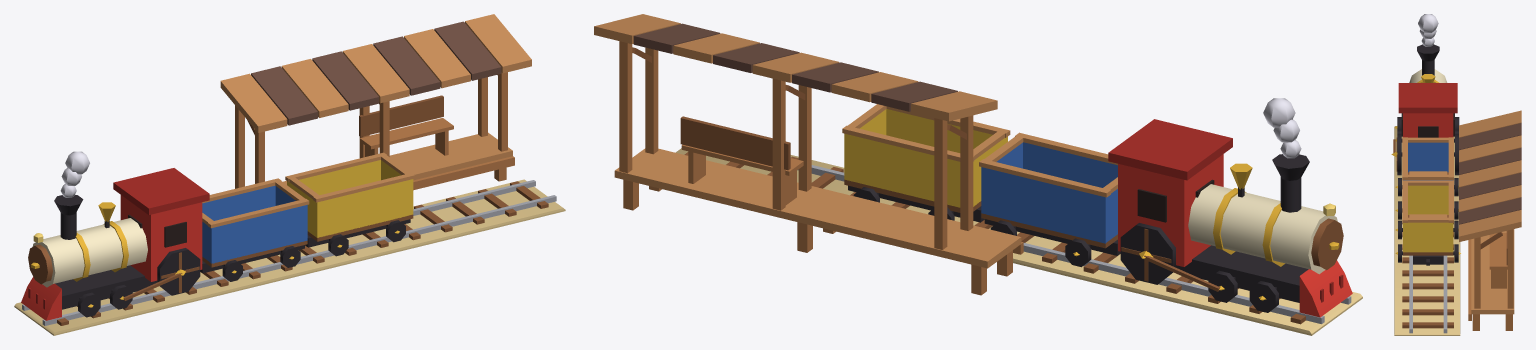
The model's file is zoo_train.glb.
3 views of the same model, side by side, from view 1: azimuth 30°, elevation 25°; view 2: azimuth 150°, elevation 25°; view 3: azimuth 270°, elevation 25° (orthographic). The views are drawn at different scales.
Visible parts, largest first — view 1: zoo_train, wheel_e2, smoke, wheel_e0, wheel_e1; view 2: zoo_train, wheel_e2, smoke, wheel_e0, wheel_e1, wheel_w1a; view 3: zoo_train, smoke, wheel_e2, wheel_w2a, wheel_w2b, wheel_w1b, wheel_w1a, wheel_e0.
Part boxes in pixels (<box>): zoo_train: <box>14,14,565,335</box>; wheel_e2: <box>157,248,200,295</box>; smoke: <box>60,151,89,197</box>; wheel_e0: <box>78,292,100,317</box>; wheel_e1: <box>110,285,132,309</box>; zoo_train: <box>594,14,1362,335</box>; wheel_e2: <box>1120,223,1175,284</box>; smoke: <box>1263,98,1301,158</box>; wheel_e0: <box>1249,281,1278,312</box>; wheel_e1: <box>1208,270,1237,302</box>; wheel_w1a: <box>1065,238,1091,267</box>; zoo_train: <box>1393,44,1521,335</box>; smoke: <box>1418,14,1438,46</box>; wheel_e2: <box>1391,133,1458,175</box>; wheel_w2a: <box>1395,220,1458,239</box>; wheel_w2b: <box>1395,244,1460,262</box>; wheel_w1b: <box>1395,201,1458,219</box>; wheel_w1a: <box>1395,178,1458,196</box>; wheel_e0: <box>1394,117,1459,129</box>.
Bounding box in the file's own units: 8.11 × 2.37 × 2.12.
Materials: 1 (1 with a texture image).
